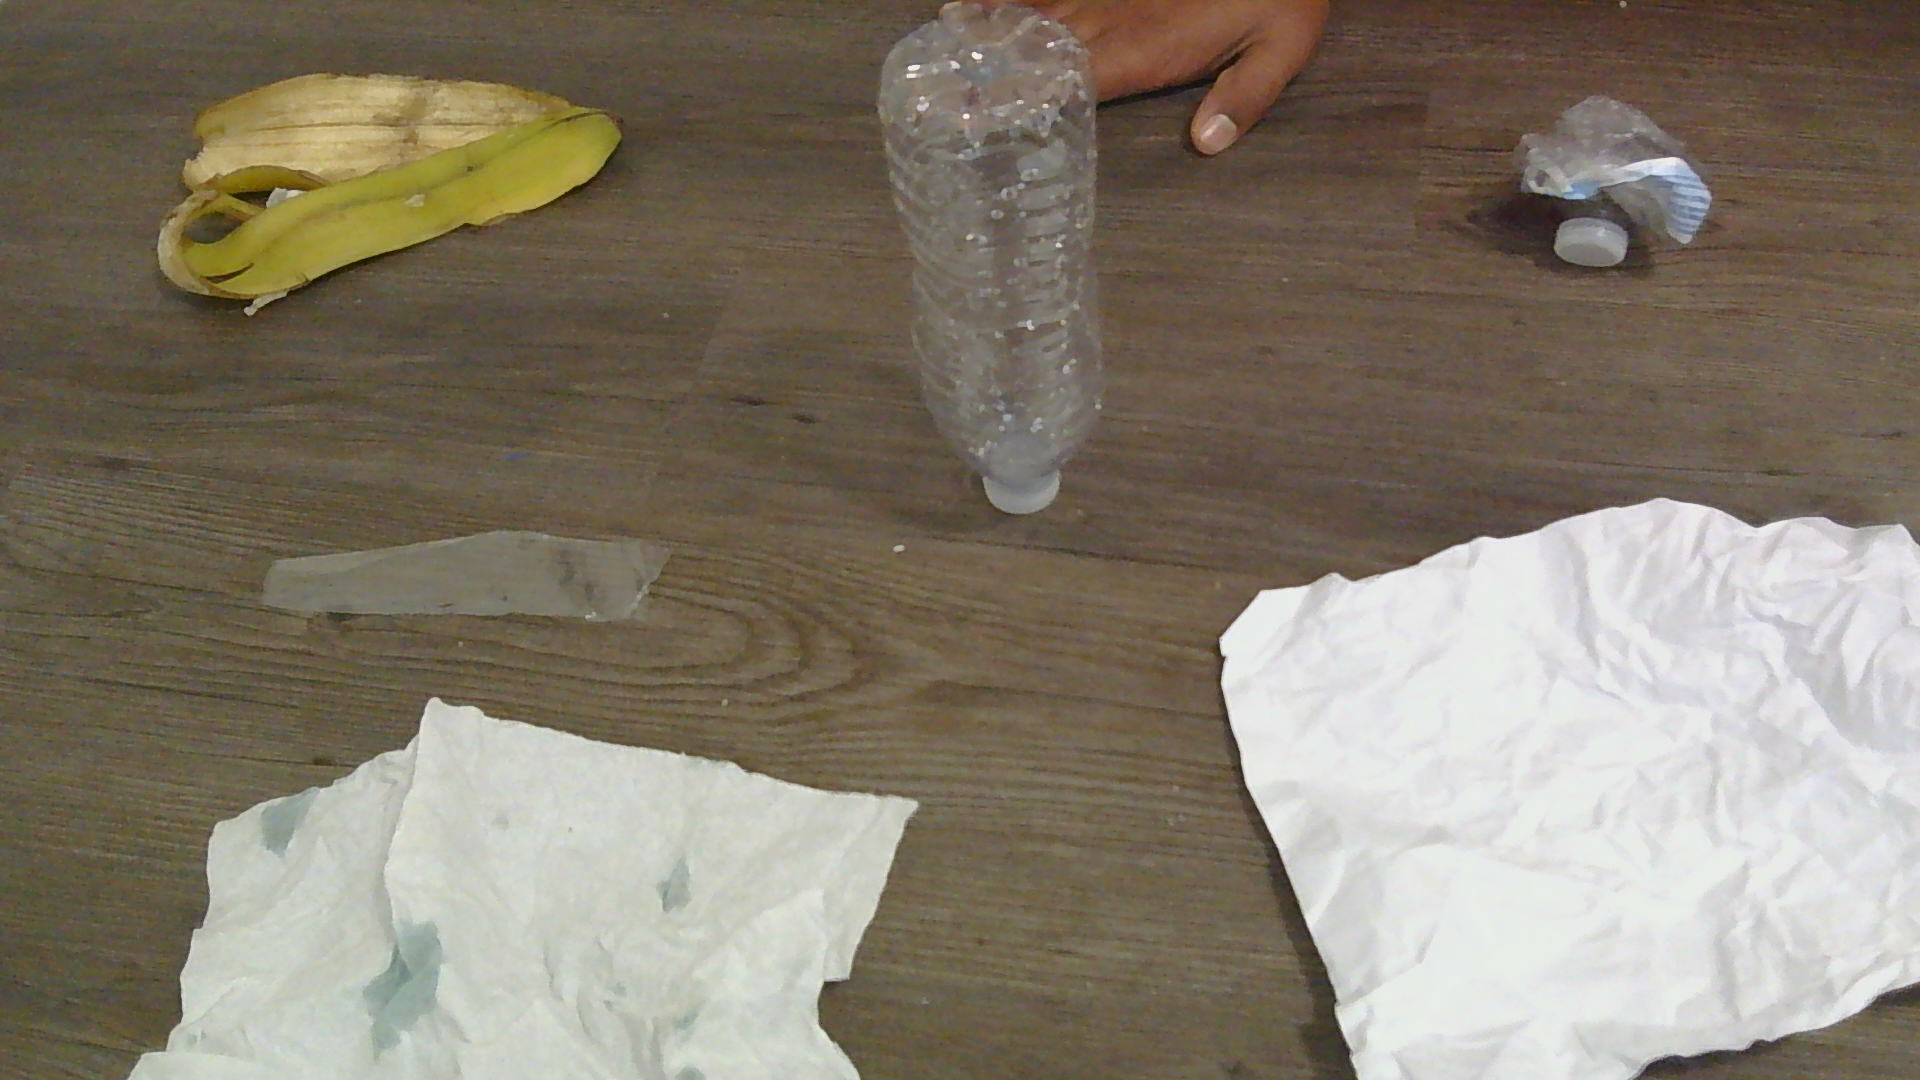banana peel: (162, 74, 622, 311)
bottle: (870, 0, 1106, 520)
crushed bottle: (1518, 90, 1720, 268)
napkin: (127, 690, 915, 1080)
paper: (1218, 497, 1917, 1080)
plastic piece: (258, 522, 675, 626)
receipt: (258, 522, 675, 626)
